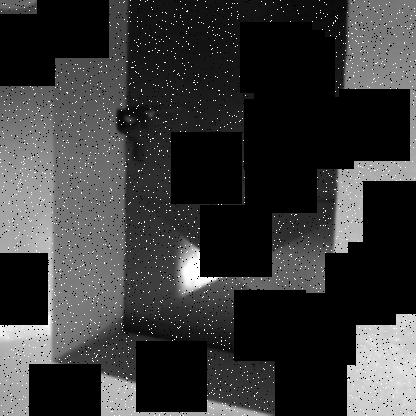Porte: (119, 0, 364, 374)
